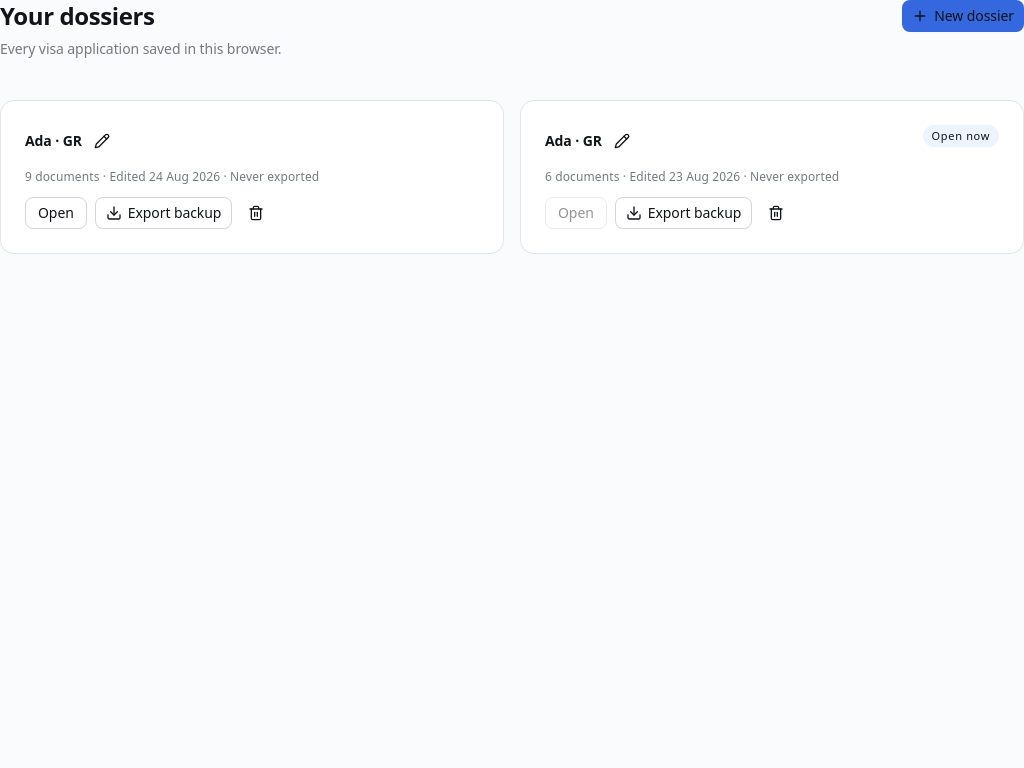
dossiers page › moves focus somewhere intentional after deleting a dossier
The width and height of the screenshot is (1024, 768).
Click the button named "Delete " below "9 documents": coordinates (256, 213) [240,197,272,229]
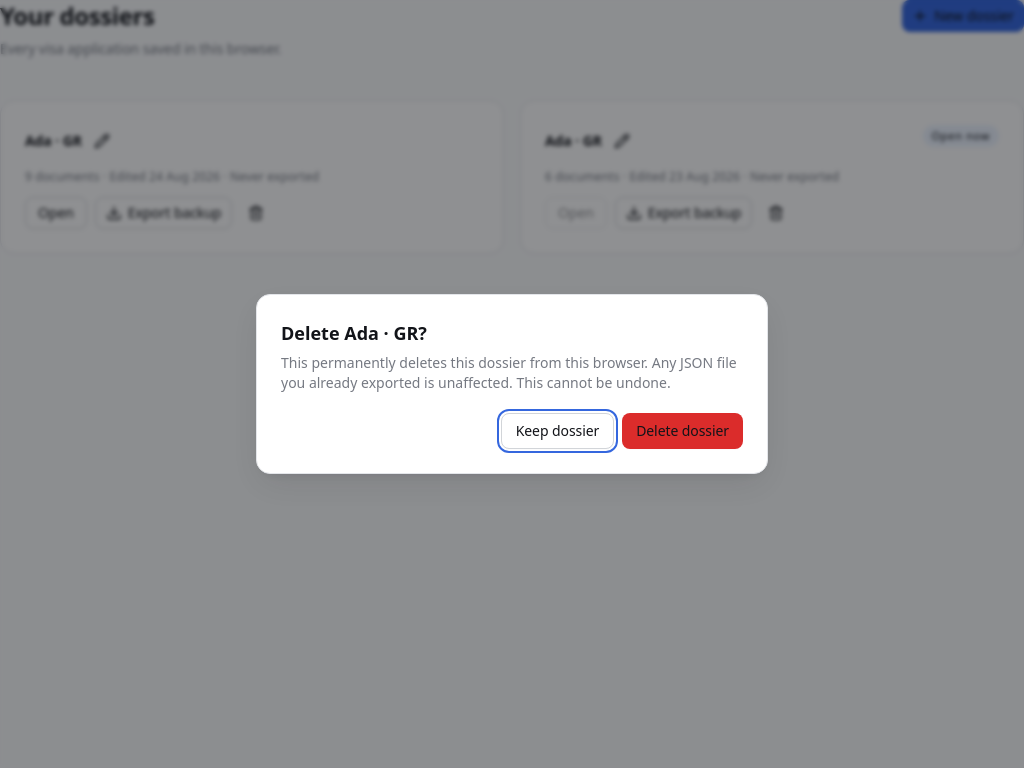
Result: the dialog is shown at [256,294,768,474]
Click the button "Delete dossier": coordinates (683, 431) [622,413,743,449]
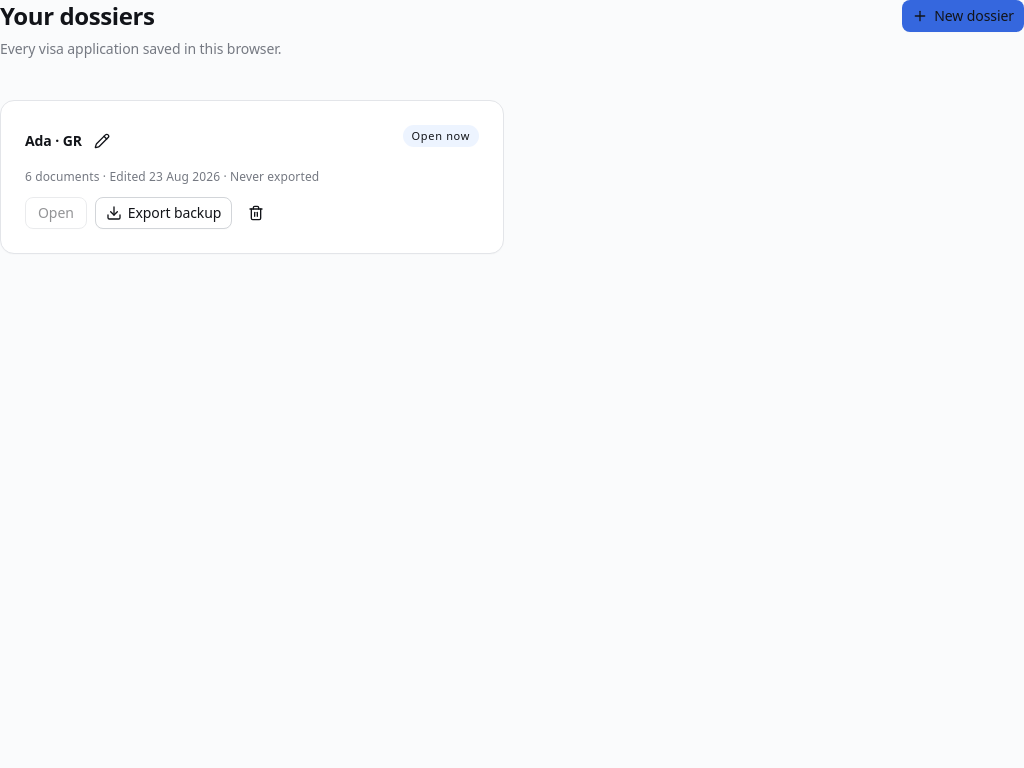
Result: the dialog is gone
